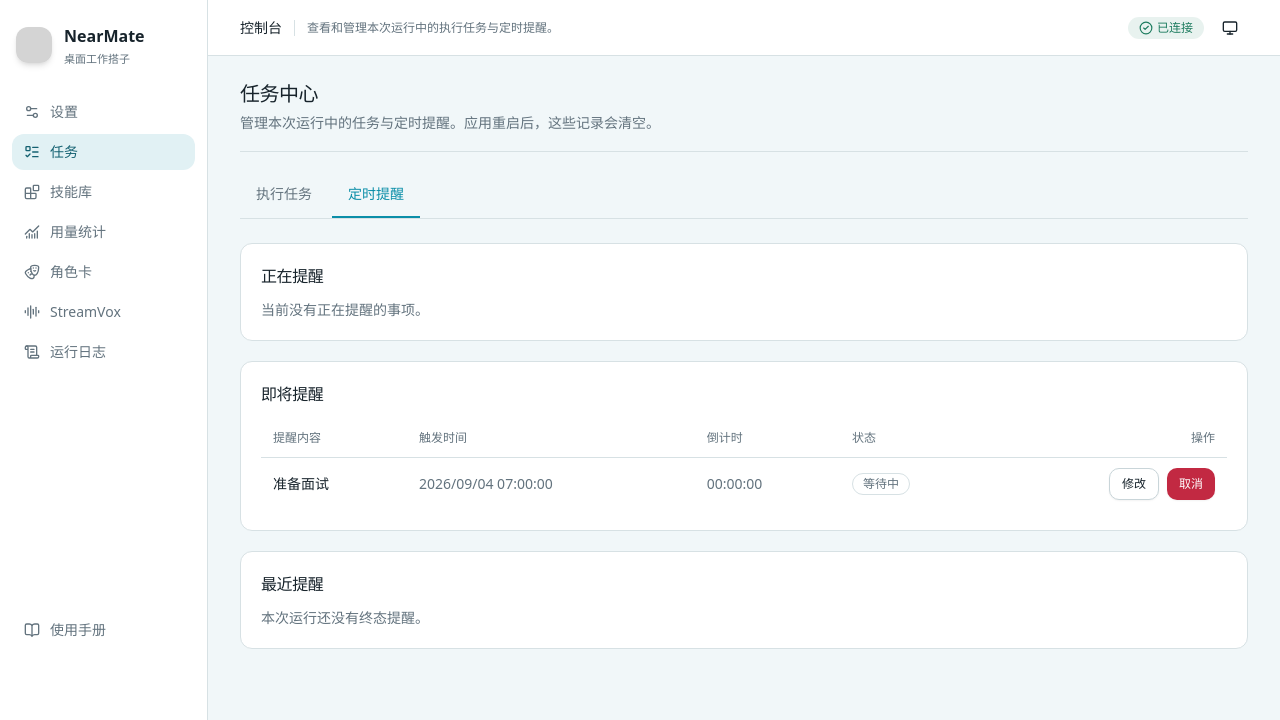
Scenario: console timed reminders › 通过任务页签进入提醒视图，并完成行内修改与取消
Expected: the heading "任务中心" is shown, [240,80,318,107]
Click the button "修改": (1134, 484) [1109,468,1159,500]
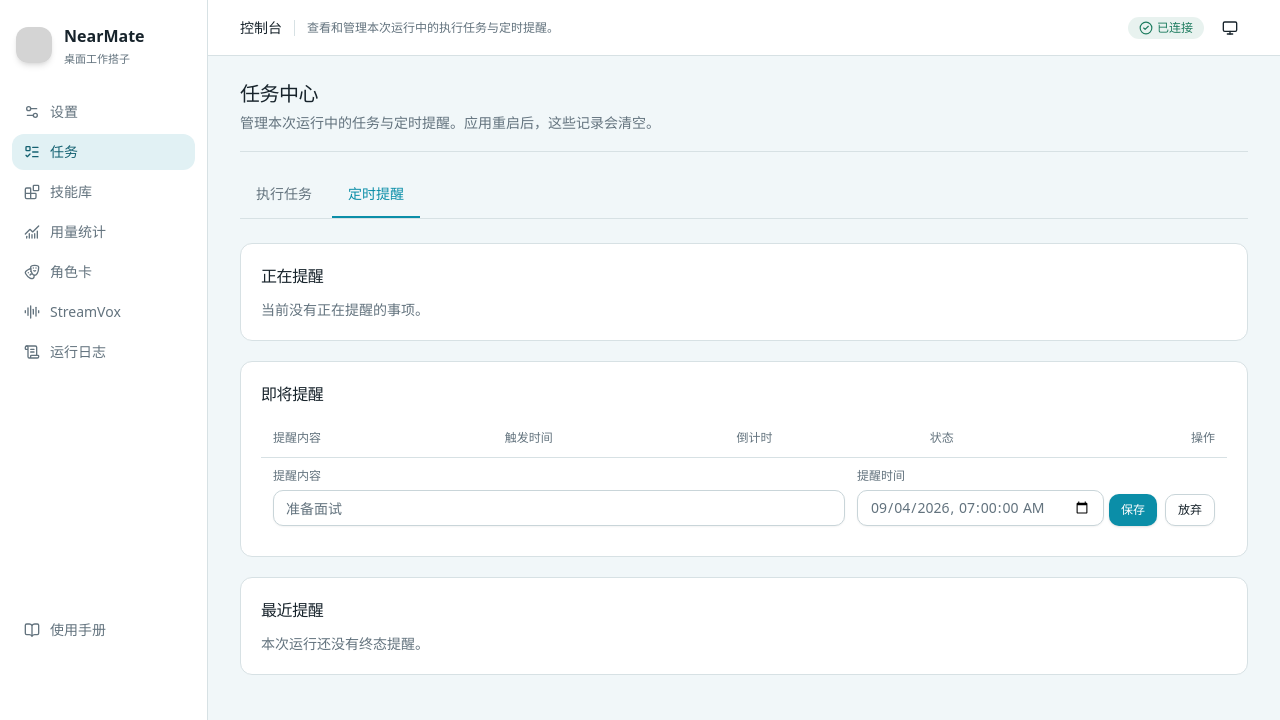
Replace the text in the field labelled "提醒内容" with "检查摄像头": (559, 508) [273,490,845,526]
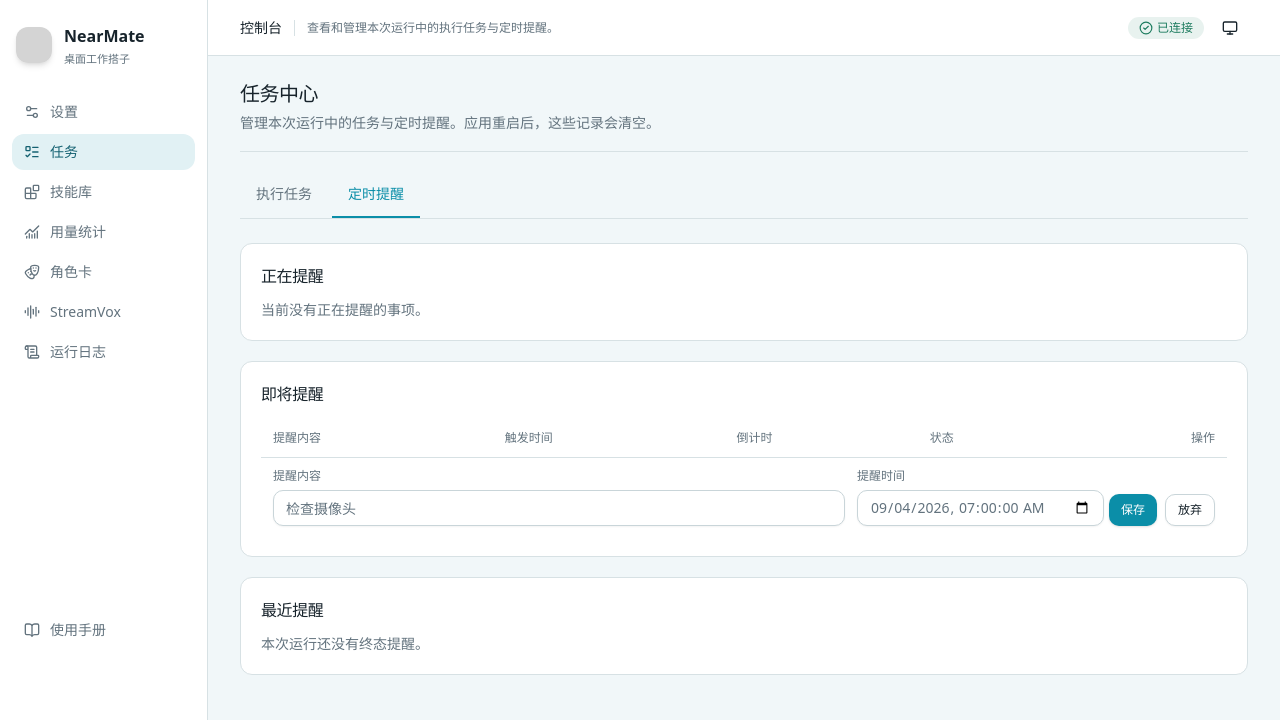
Replace the text in the field labelled "提醒时间" with "2026-09-04T15:30": (980, 508) [857,490,1104,526]
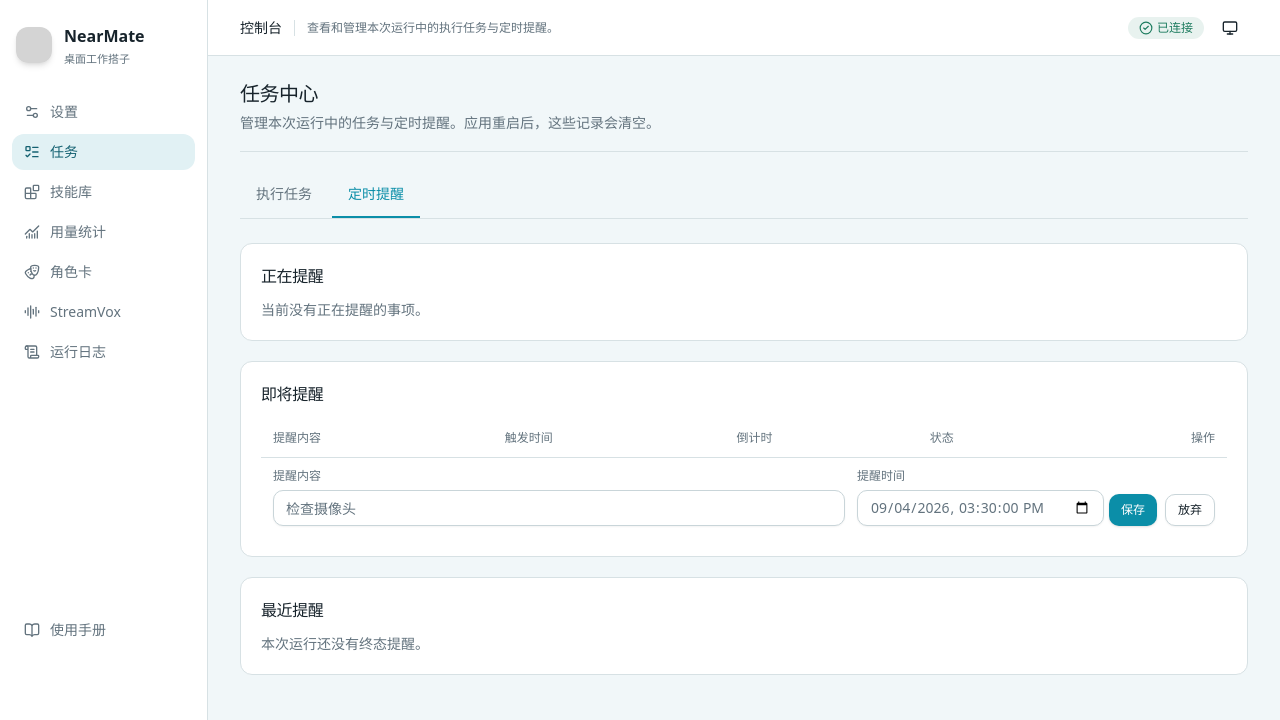
Click the button "保存": (1133, 510) [1109,494,1157,526]
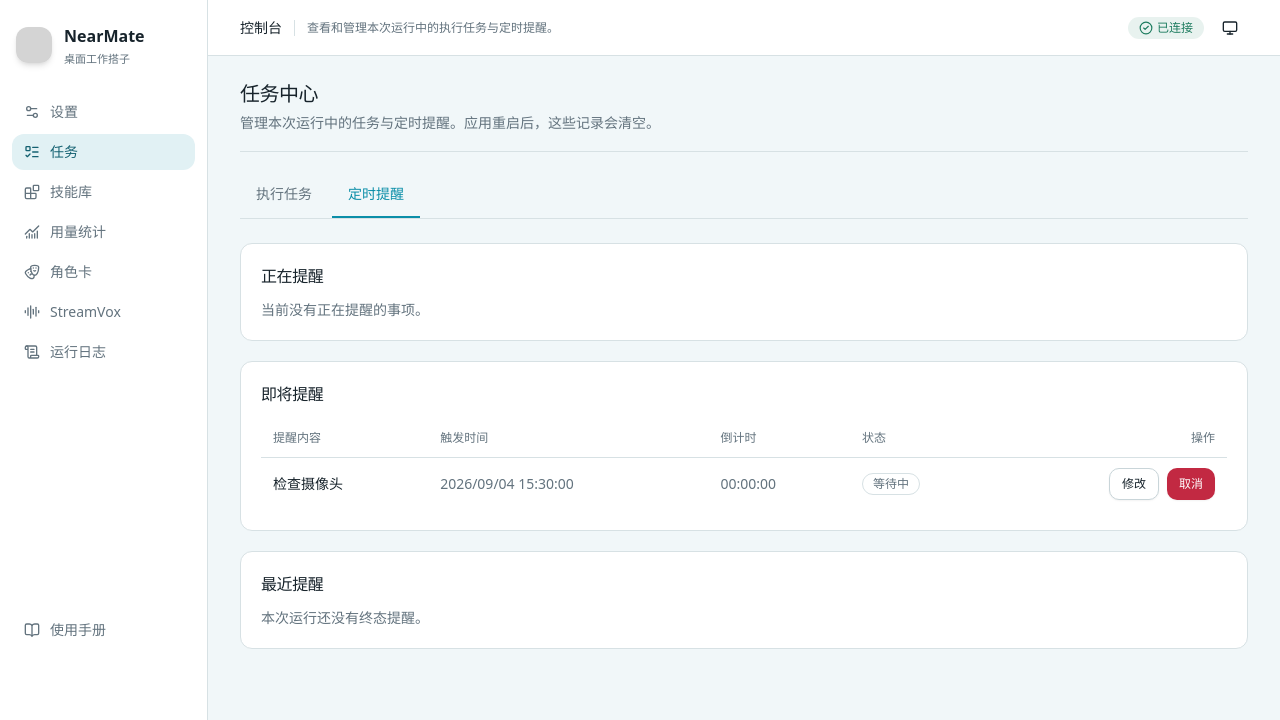
Result: the text "检查摄像头" is shown at [273,474,343,493]
Click the button "取消": (1191, 484) [1167,468,1215,500]
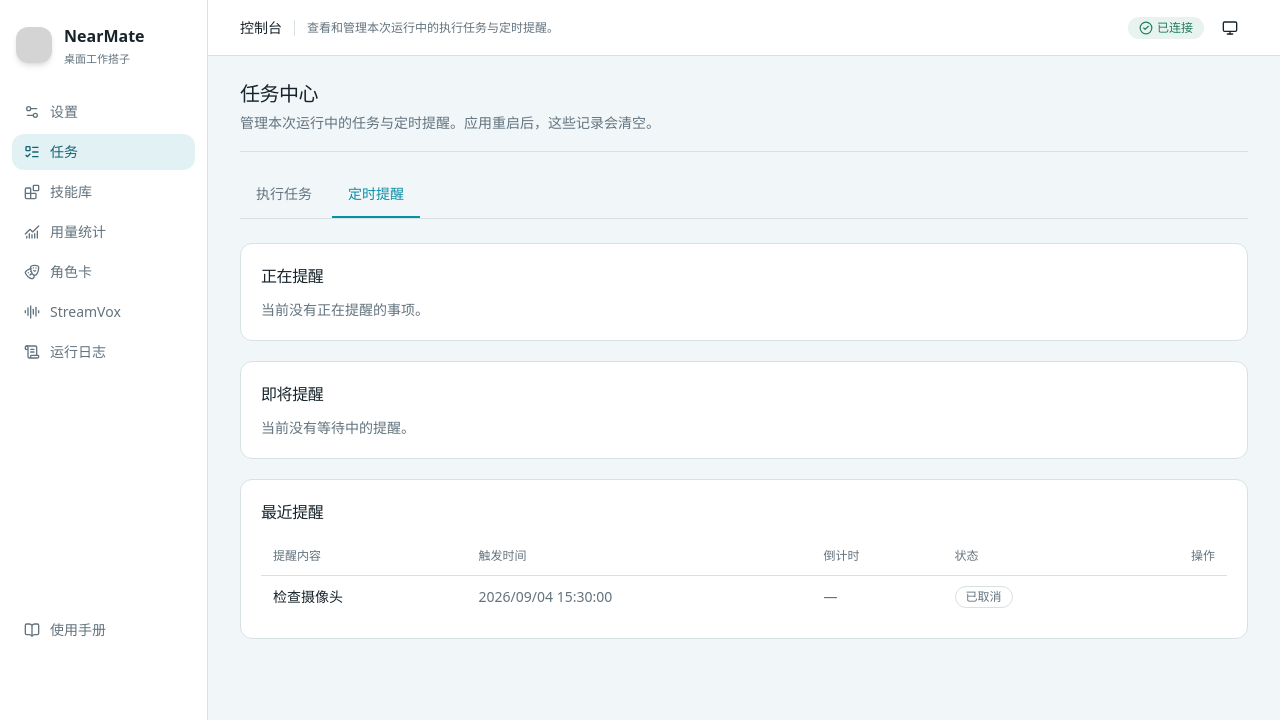
Result: the text "已取消" is shown at [955,586,1013,608]
